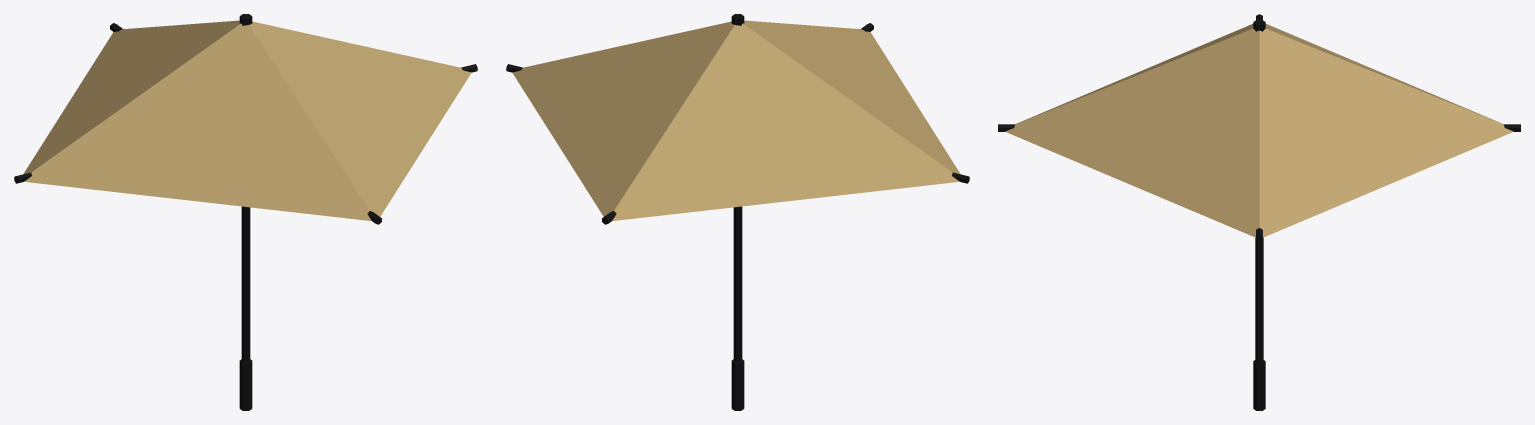
Rendered from Umbrella.fbx.
3 renders of one model, left to right at view 1: azimuth 30°, elevation 25°; view 2: azimuth 150°, elevation 25°; view 3: azimuth 270°, elevation 25°, orthographic.
Parts seen in each view (by area): view 1: Umbrella; view 2: Umbrella; view 3: Umbrella.
Boxes of the visible parts, box(x1,y1,x2,y2) form: Umbrella: box(14, 14, 477, 410); Umbrella: box(506, 14, 969, 410); Umbrella: box(998, 14, 1520, 410).
Bounding box in the file's own units: 5 × 5 × 4.08.
